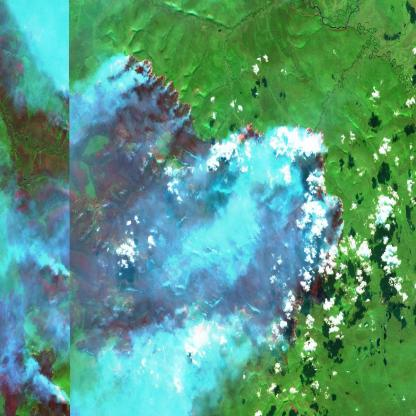fire: (0, 49, 348, 416)
